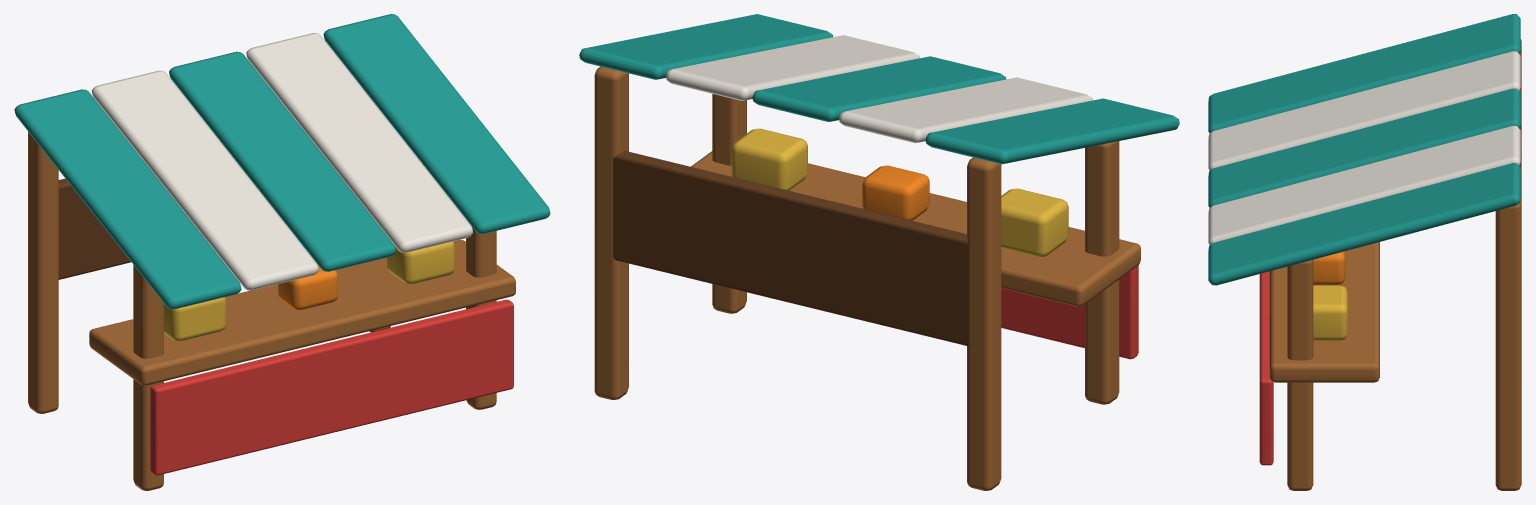
The model's file is Buildings__market_stall.glb.
3 renders of one model, left to right at view 1: azimuth 30°, elevation 25°; view 2: azimuth 150°, elevation 25°; view 3: azimuth 270°, elevation 25°, orthographic. The views are drawn at different scales.
Visible parts, largest first — view 1: market_stall_mesh; view 2: market_stall_mesh; view 3: market_stall_mesh.
Part boxes in pixels (x1,y1,x2,y2): market_stall_mesh: (14, 14, 550, 490); market_stall_mesh: (579, 14, 1179, 490); market_stall_mesh: (1208, 14, 1521, 490).
Size of the model in its own units: 1.43 by 1.1 by 1.02.
